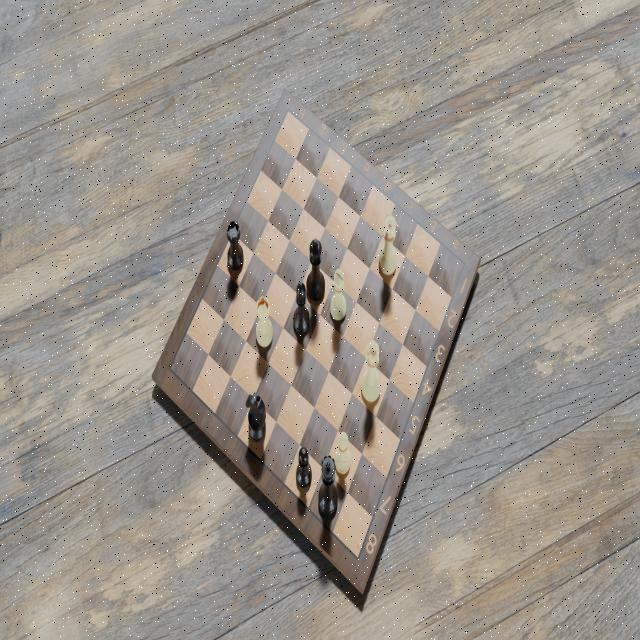black-bishop: (292, 279, 312, 336)
black-king: (305, 238, 327, 304)
black-knight: (244, 388, 267, 444)
black-pawn: (294, 444, 313, 491)
black-queen: (318, 453, 338, 520)
black-rook: (225, 220, 245, 275)
white-bishop: (327, 267, 348, 325)
white-king: (360, 337, 383, 406)
white-pawn: (334, 429, 354, 476)
white-queen: (377, 213, 397, 279)
white-rook: (253, 295, 275, 353)
